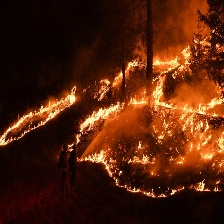fire: (80, 46, 224, 195), (1, 83, 80, 146)
